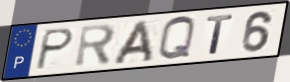6: (240, 9, 276, 54)
A: (111, 19, 155, 66)
P: (33, 27, 76, 72)
Q: (156, 15, 197, 63)
R: (73, 22, 118, 70)
T: (204, 13, 236, 56)
